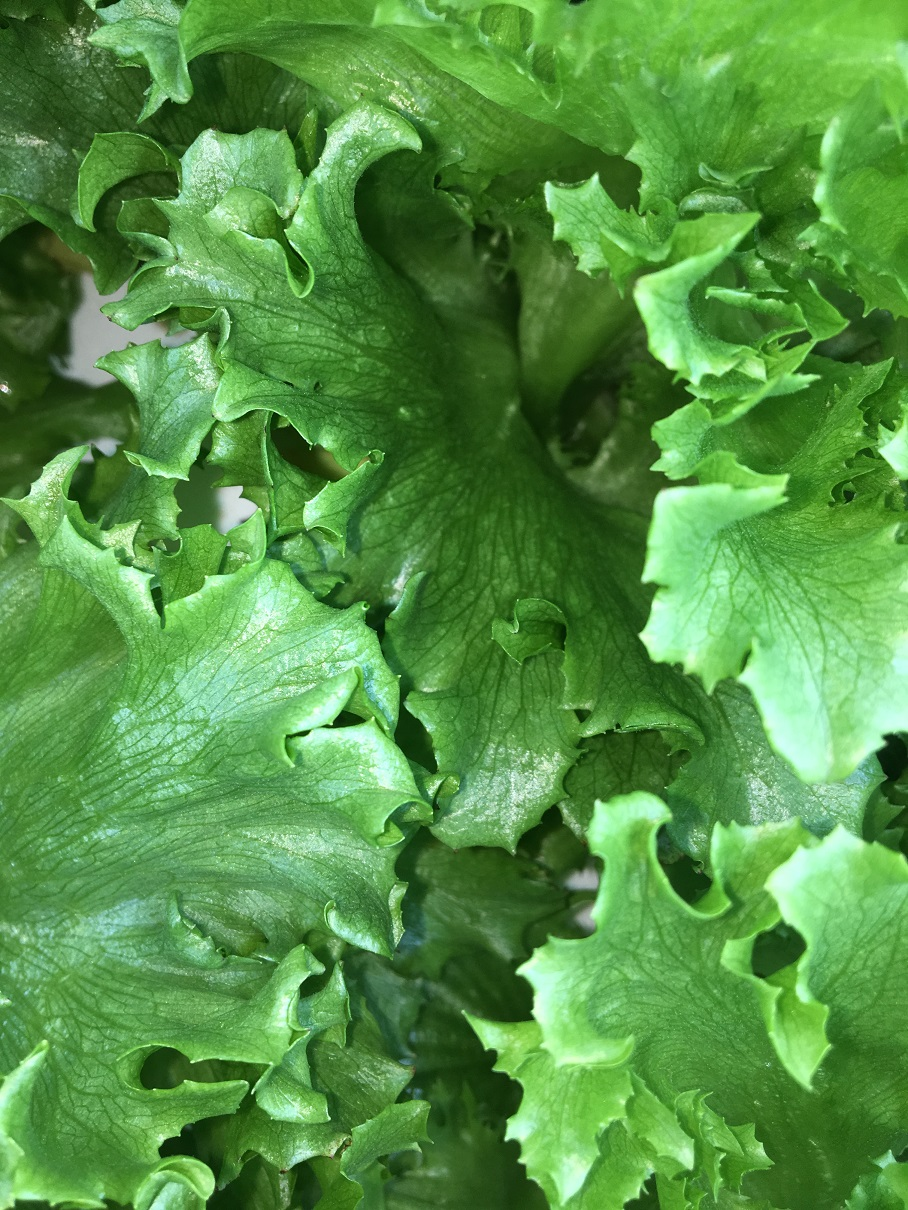tipburn: (259, 1142, 306, 1183), (86, 296, 130, 339), (325, 1127, 369, 1169), (284, 183, 315, 227), (393, 1057, 428, 1090)
